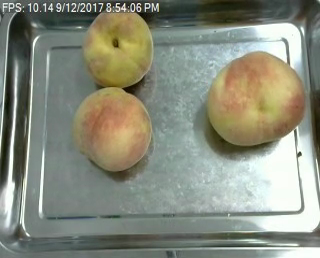Peach: (207, 50, 306, 145), (72, 85, 152, 170), (83, 6, 154, 87)
